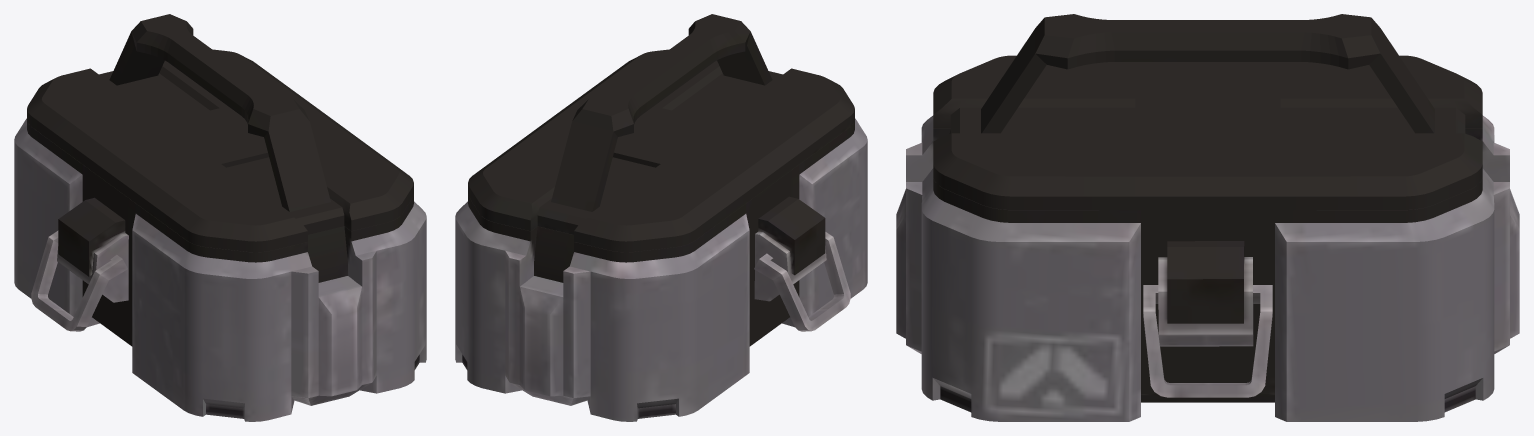
Rendered from Prop_Ammo_Closed.glb.
3 renders of one model, left to right at view 1: azimuth 30°, elevation 25°; view 2: azimuth 150°, elevation 25°; view 3: azimuth 270°, elevation 25°, orthographic. The views are drawn at different scales.
Parts seen in each view (by area): view 1: Prop_Ammo_Closed; view 2: Prop_Ammo_Closed; view 3: Prop_Ammo_Closed.
Part boxes in pixels (x1=…): Prop_Ammo_Closed: x1=14, y1=14, x2=426, y2=421; Prop_Ammo_Closed: x1=455, y1=14, x2=867, y2=421; Prop_Ammo_Closed: x1=896, y1=14, x2=1519, y2=421.
Size of the model in its own units: 0.5706 by 0.4121 by 0.7229.
1 material, 1 textured.
